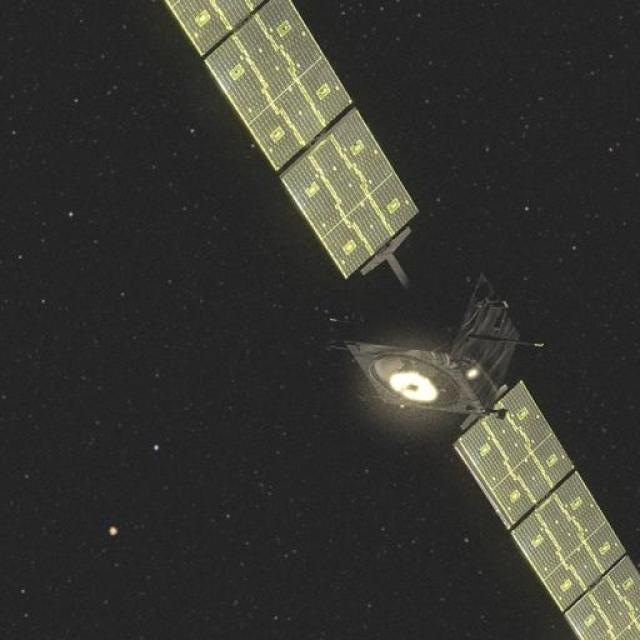smart_1: (259, 101, 610, 580)
